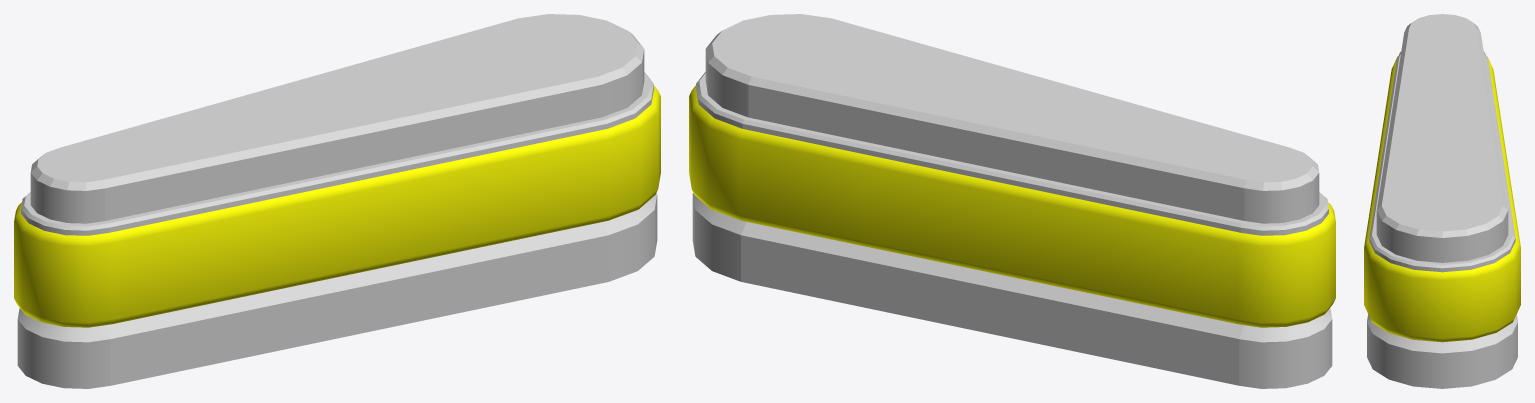
File: Flipper.FBX
3 views of the same model, side by side, from view 1: azimuth 30°, elevation 25°; view 2: azimuth 150°, elevation 25°; view 3: azimuth 270°, elevation 25° (orthographic). The views are drawn at different scales.
Visible parts, largest first — view 1: Flipper; view 2: Flipper; view 3: Flipper.
Boxes of the visible parts, x1,y1,x2,y2 form: Flipper: (14,14,660,388); Flipper: (689,14,1335,388); Flipper: (1364,14,1520,388).
Size of what is drawn, in the model's own units: 295 by 94.9 by 84.06.
